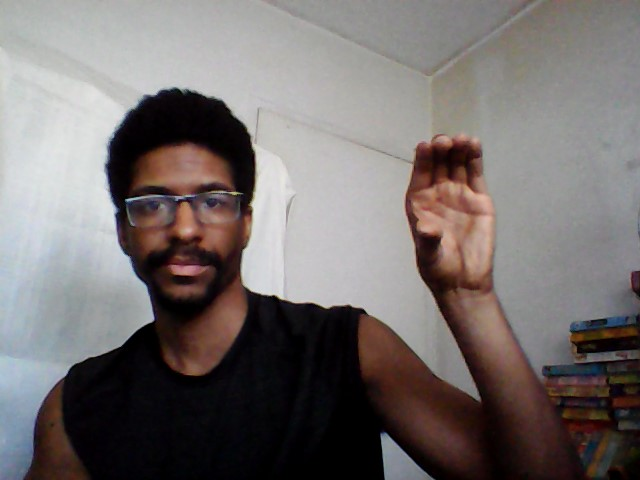c: (402, 123, 499, 293)
